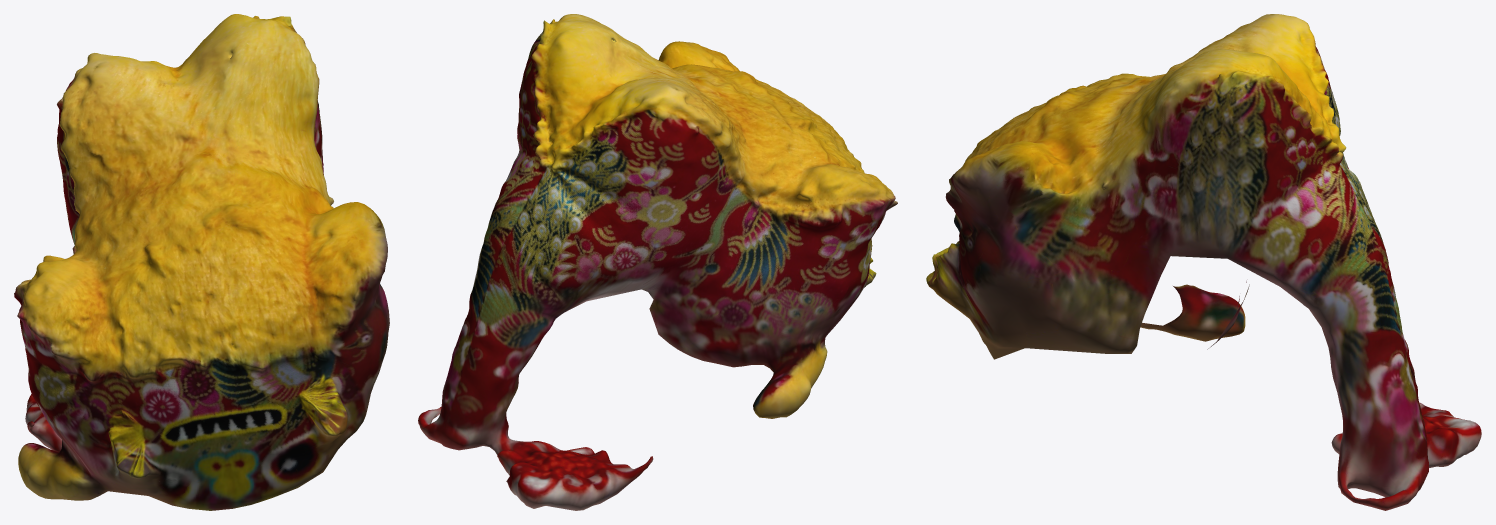
3 views of the same model, side by side, from view 1: azimuth 30°, elevation 25°; view 2: azimuth 150°, elevation 25°; view 3: azimuth 270°, elevation 25° (orthographic). The views are drawn at different scales.
Size of the model in its own units: 1.13 by 1.26 by 1.43.
Materials: 1 (1 with a texture image).
